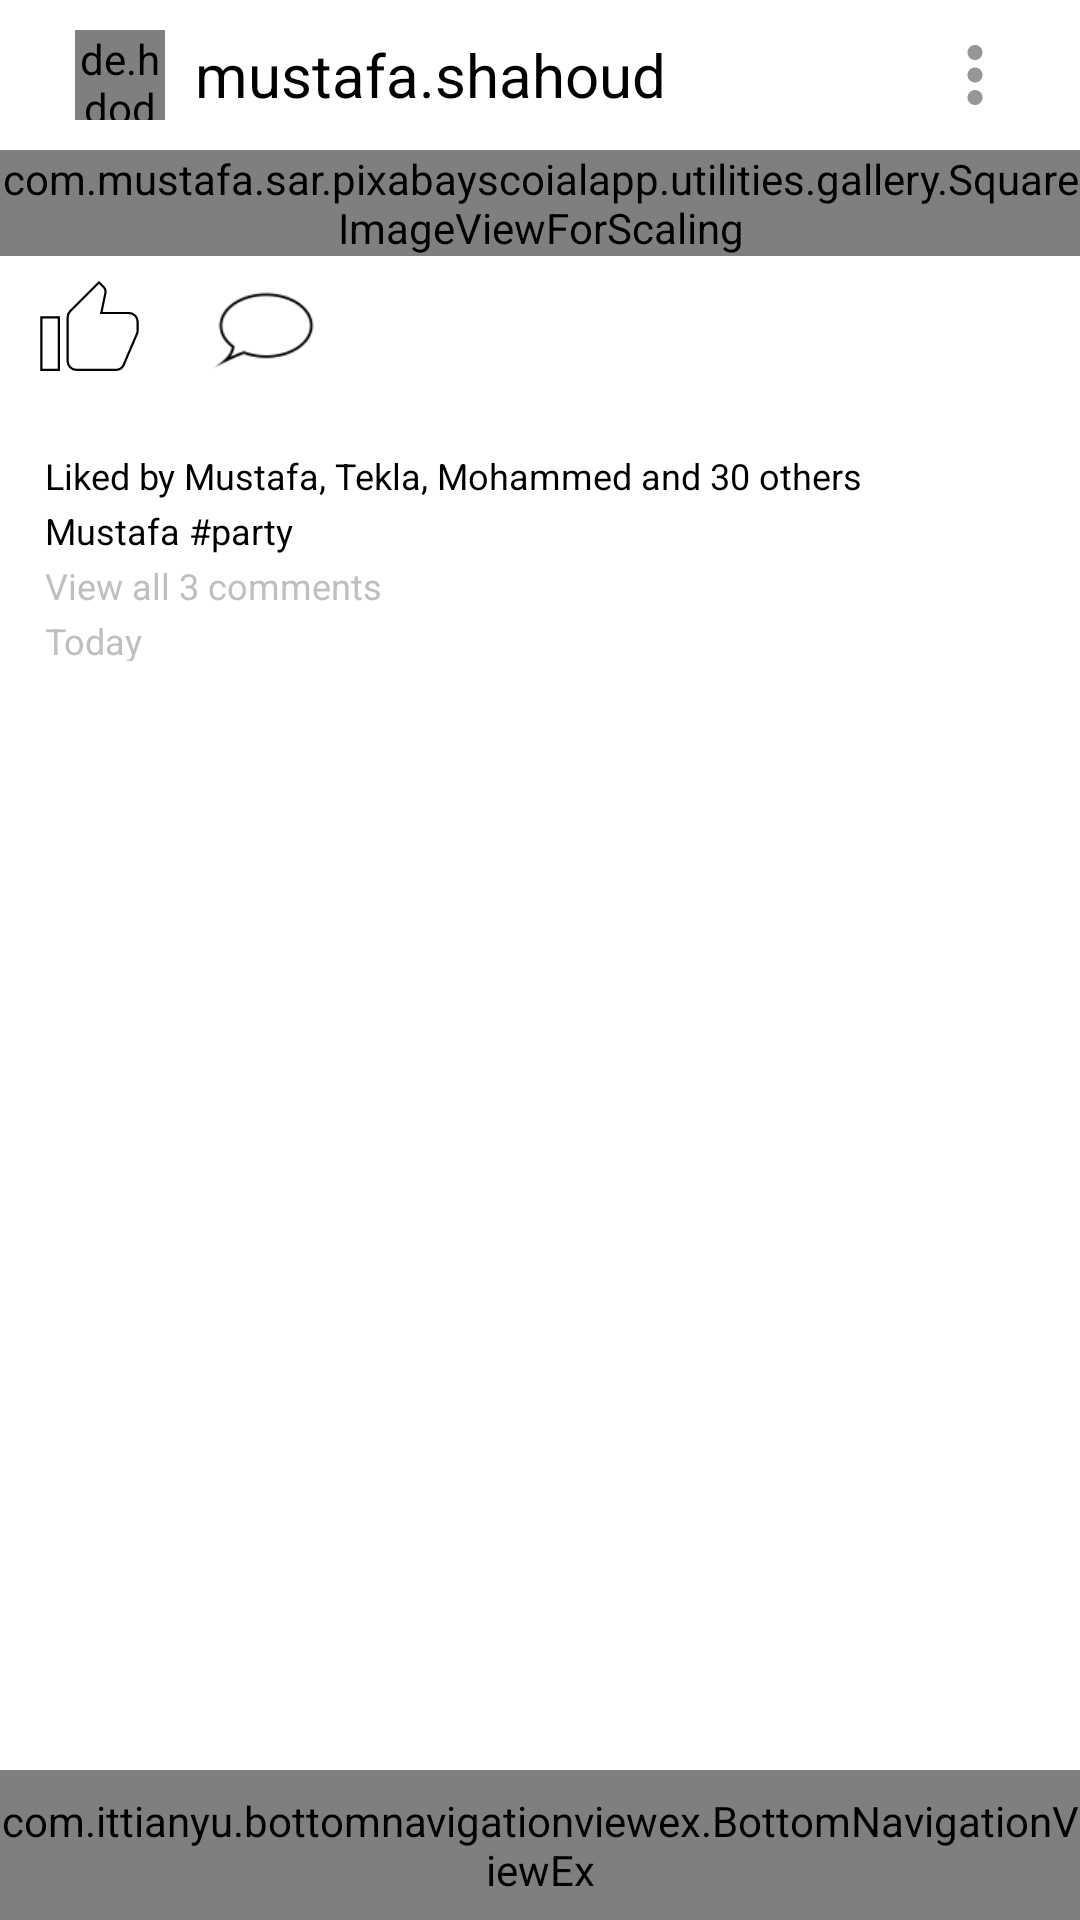

Icons on this 1080w x 1920h Android screen, each with the point to tap as [x,y]:
comment: [264,329]
menu: [975,75]
